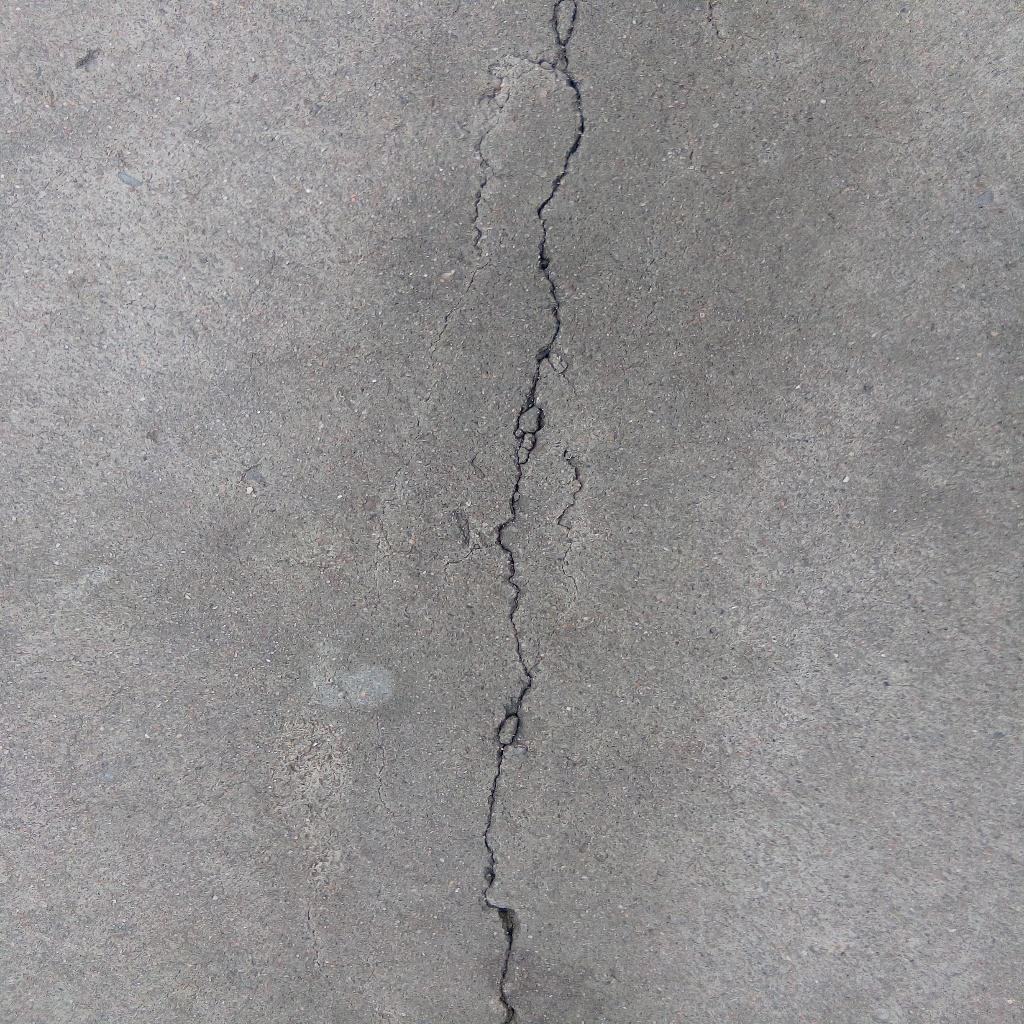Crack: (479, 1, 585, 1024)
